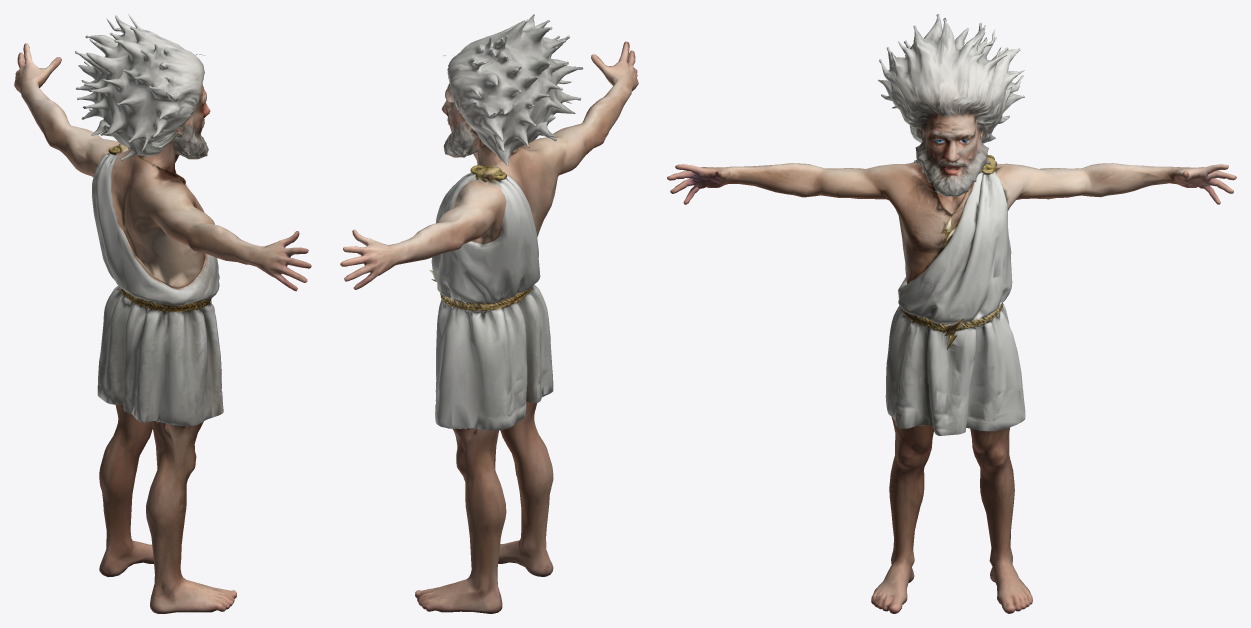
Rendered from the-thunder.glb.
3 views of the same model, side by side, from view 1: azimuth 30°, elevation 25°; view 2: azimuth 150°, elevation 25°; view 3: azimuth 270°, elevation 25° (orthographic). The views are drawn at different scales.
Parts seen in each view (by area): view 1: 08-thunder; view 2: 08-thunder; view 3: 08-thunder.
Boxes of the visible parts, x1,y1,x2,y2 form: 08-thunder: [14, 14, 311, 613]; 08-thunder: [340, 14, 638, 613]; 08-thunder: [667, 14, 1236, 613].
Bounding box in the file's own units: 0.2349 × 0.9793 × 0.9015.
Materials: 1 (1 with a texture image).
